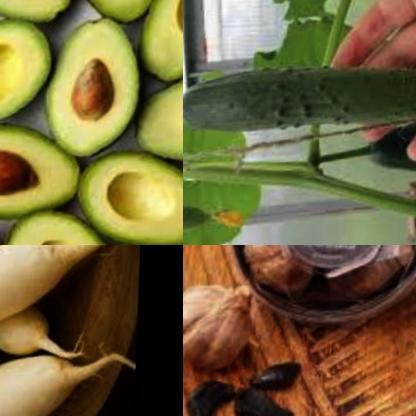avocado: (36, 9, 143, 153), (69, 150, 183, 245), (0, 104, 72, 221), (128, 44, 183, 171), (0, 22, 54, 101), (133, 0, 183, 85), (0, 216, 126, 245), (64, 0, 158, 30), (0, 0, 78, 21)
cucumber: (183, 53, 416, 140), (362, 120, 416, 185)
garlic: (183, 275, 262, 373), (185, 358, 315, 416), (339, 245, 414, 305), (240, 245, 306, 305)
redka: (0, 245, 101, 343), (0, 354, 105, 416), (0, 309, 84, 364)
